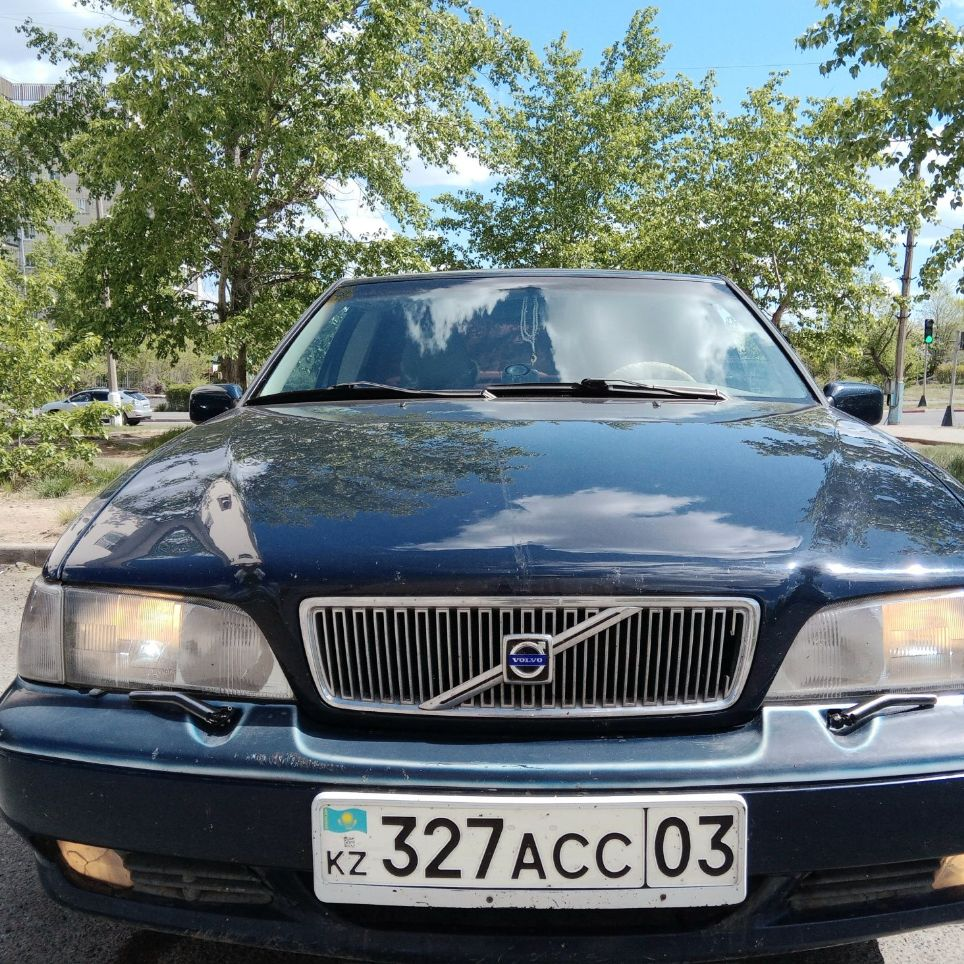license plate: (310, 799, 746, 898)
truck: (44, 255, 963, 936)
